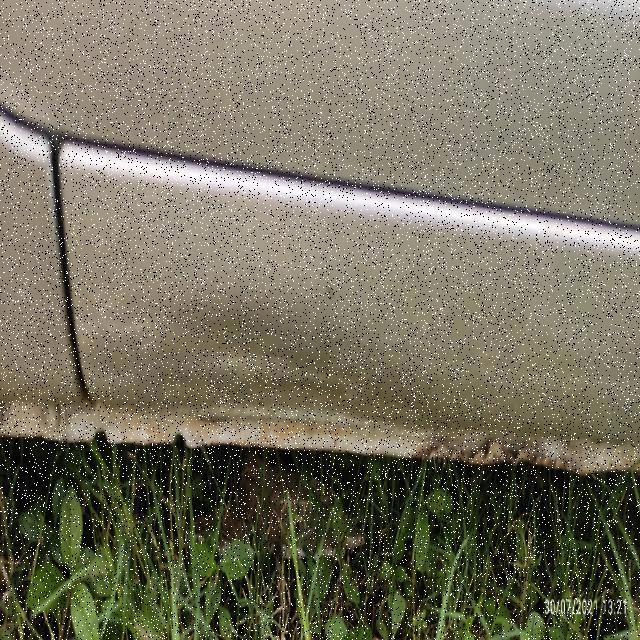RunningBoard-Dent: (54, 122, 606, 489)
